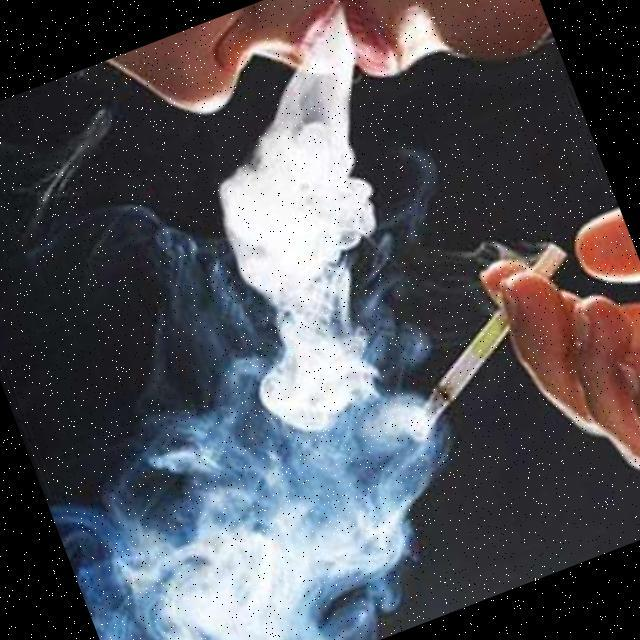cigarette: (384, 230, 606, 419)
